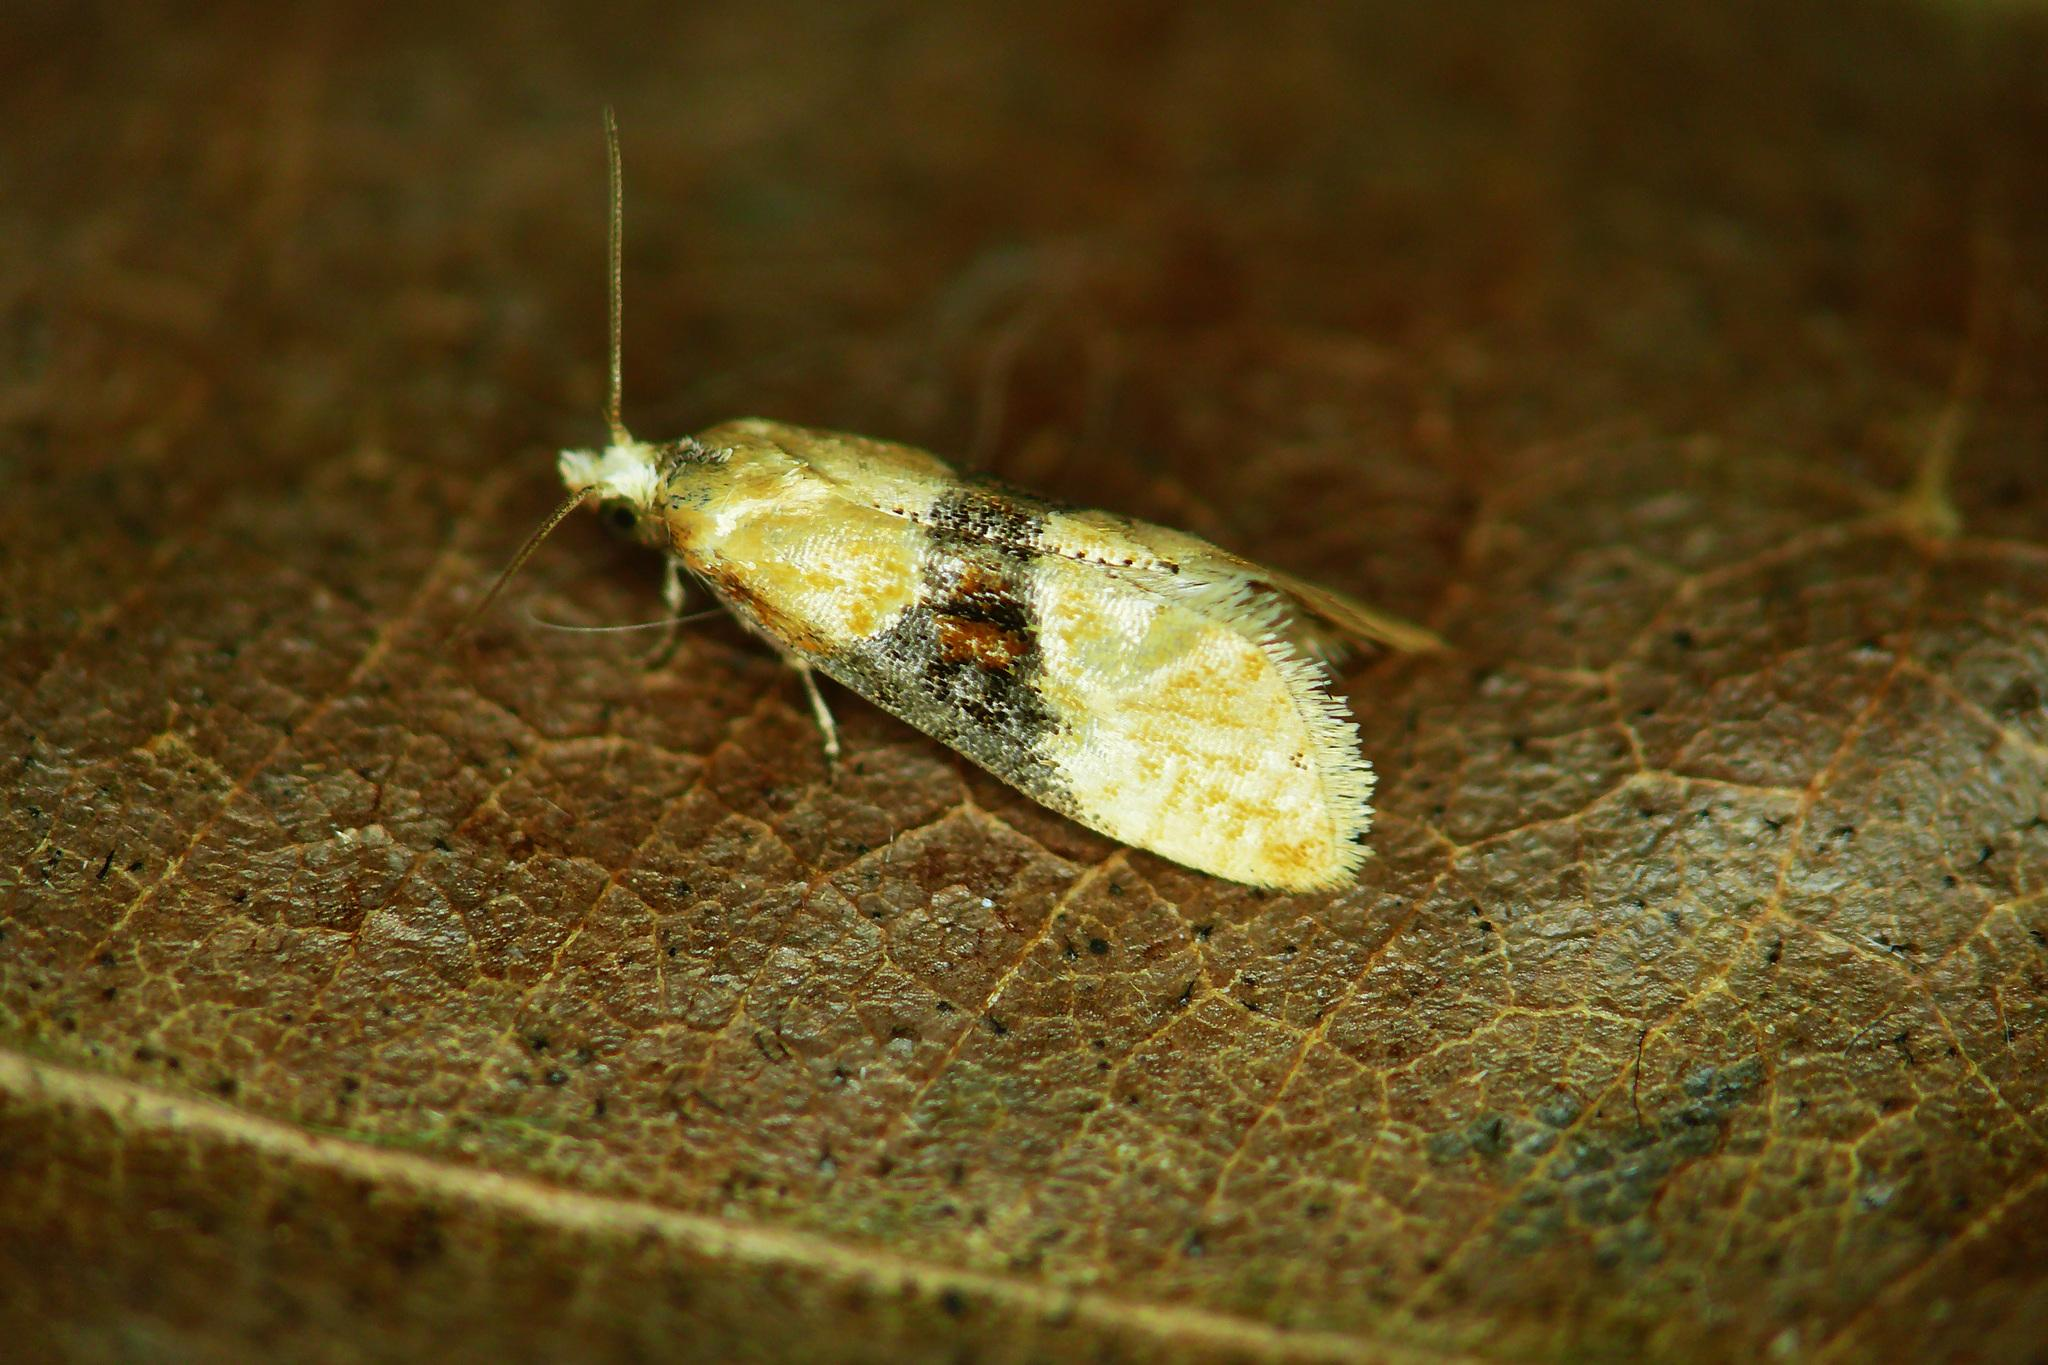Eupoecilia Ambiguella: (469, 101, 1456, 903)
